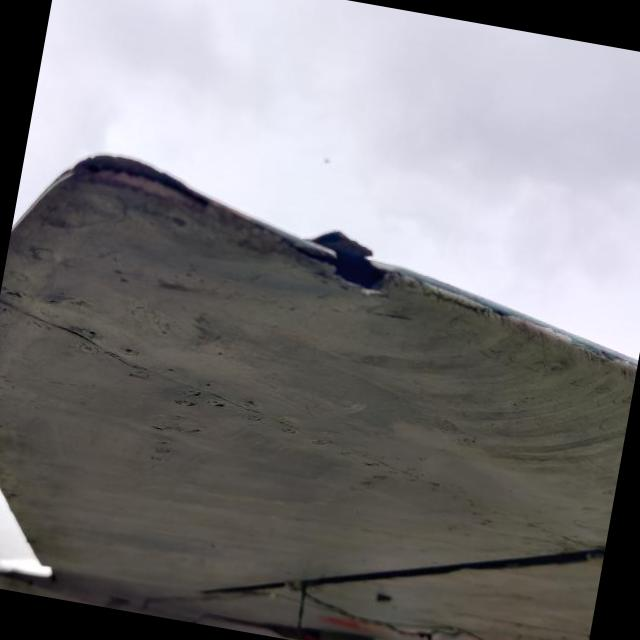Crack: (313, 231, 386, 289)
